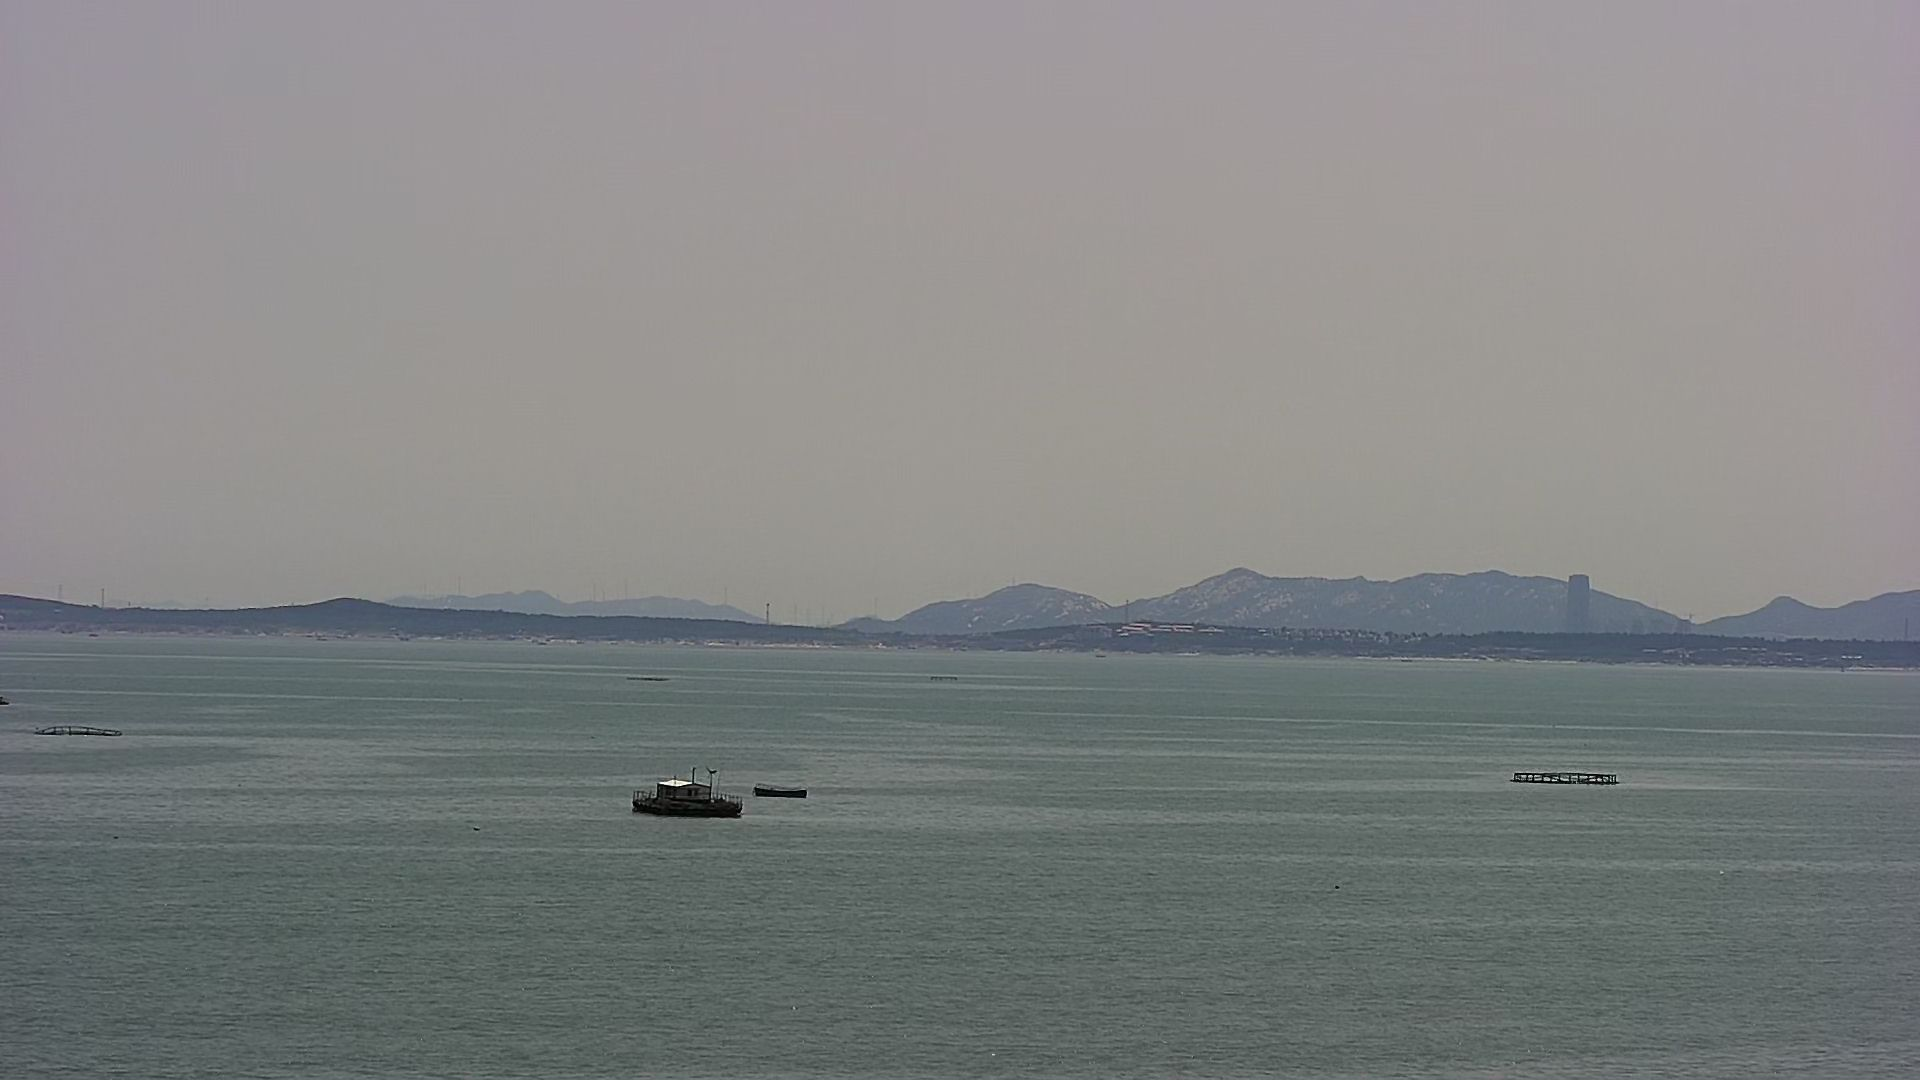boat: (754, 781, 811, 804)
platform: (626, 764, 745, 816), (1509, 767, 1622, 786)
